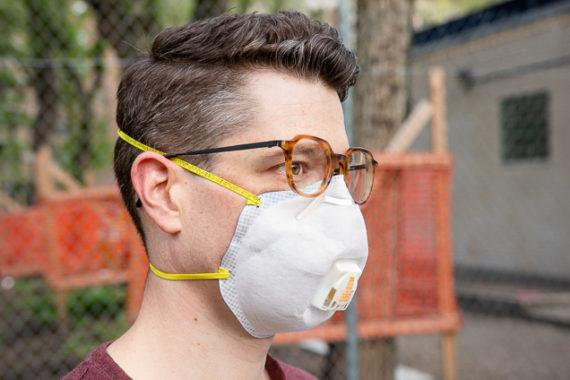n95: (224, 176, 368, 342)
